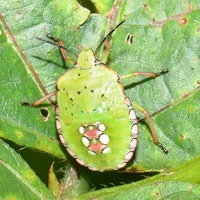insect: (22, 47, 167, 170)
